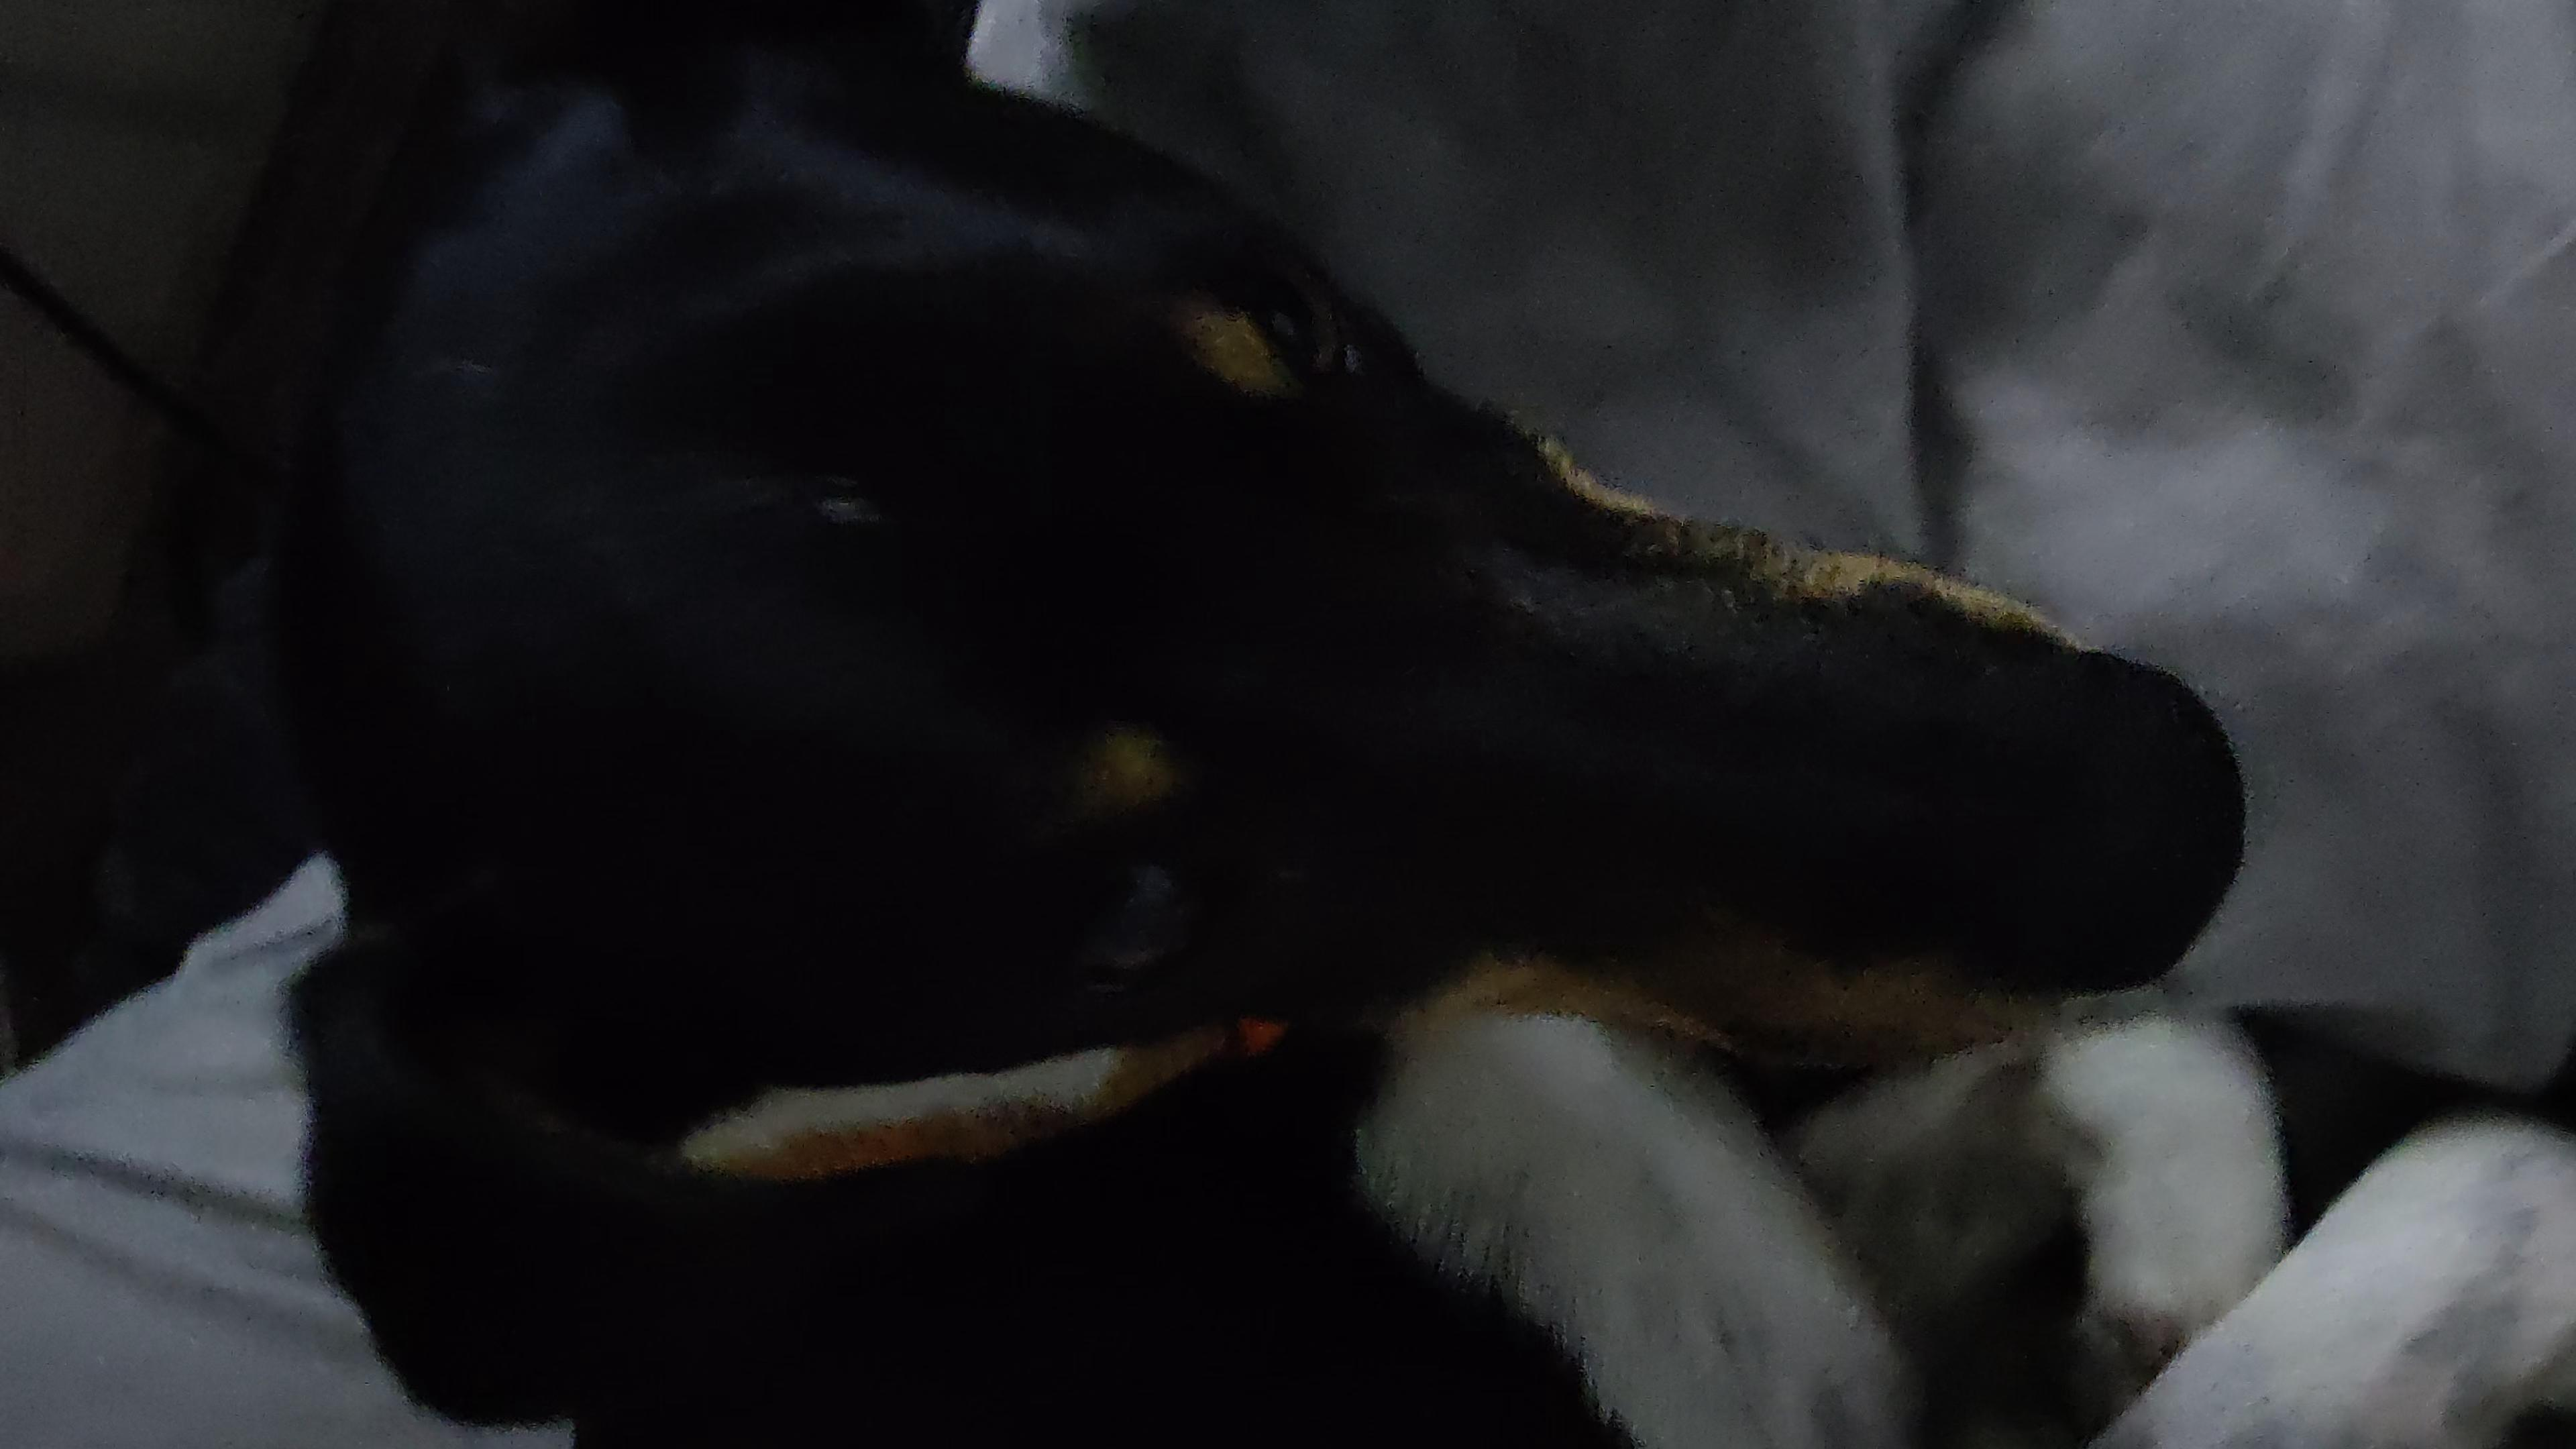Dog: (189, 0, 2576, 1449)
